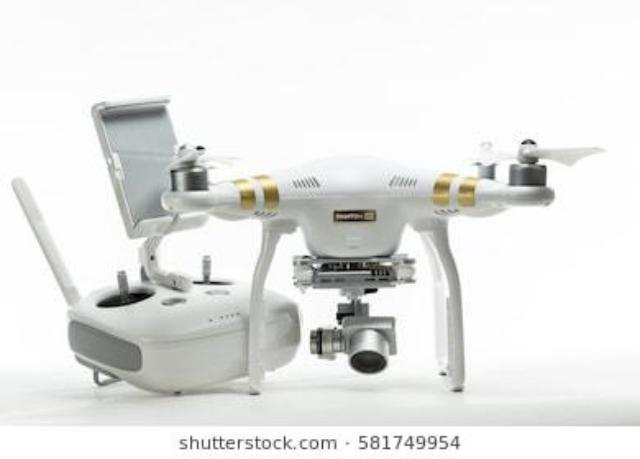drone: (0, 80, 640, 412)
